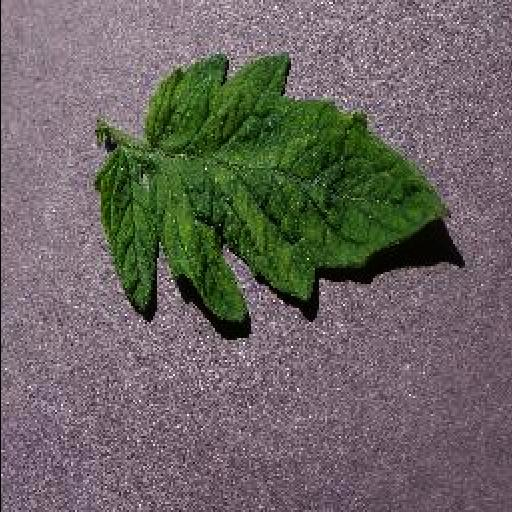Mosaic Virus: (94, 52, 452, 322)
